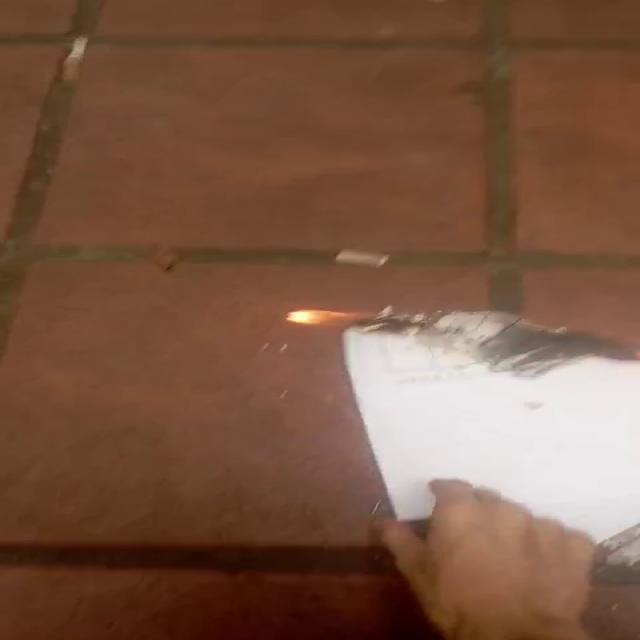Fire_Dangerous: (274, 304, 399, 330)
